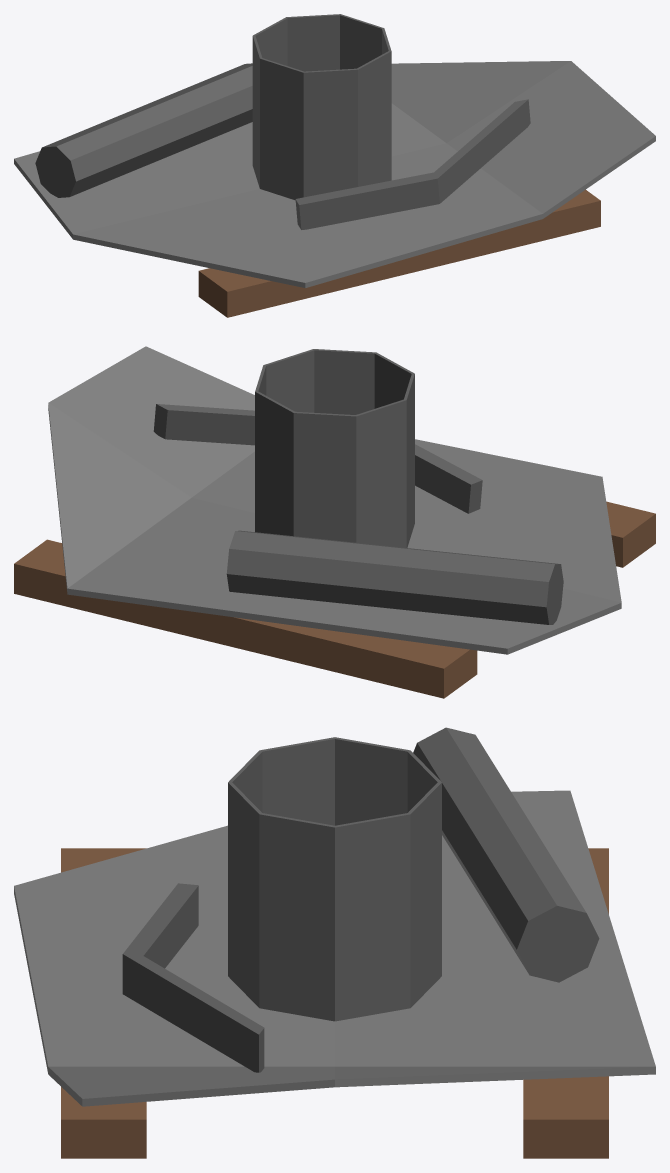
File: DriftingScrap_01.fbx
3 renders of one model, top to bottom at view 1: azimuth 30°, elevation 25°; view 2: azimuth 150°, elevation 25°; view 3: azimuth 270°, elevation 25°, orthographic. The views are drawn at different scales.
Visible parts, largest first — view 1: DriftingScrap_01; view 2: DriftingScrap_01; view 3: DriftingScrap_01.
Boxes of the visible parts, left/top/right/bottom form: DriftingScrap_01: left=14, top=14, right=655, bottom=317; DriftingScrap_01: left=14, top=346, right=655, bottom=698; DriftingScrap_01: left=14, top=727, right=655, bottom=1158.
Bounding box in the file's own units: 500 × 155 × 375.
